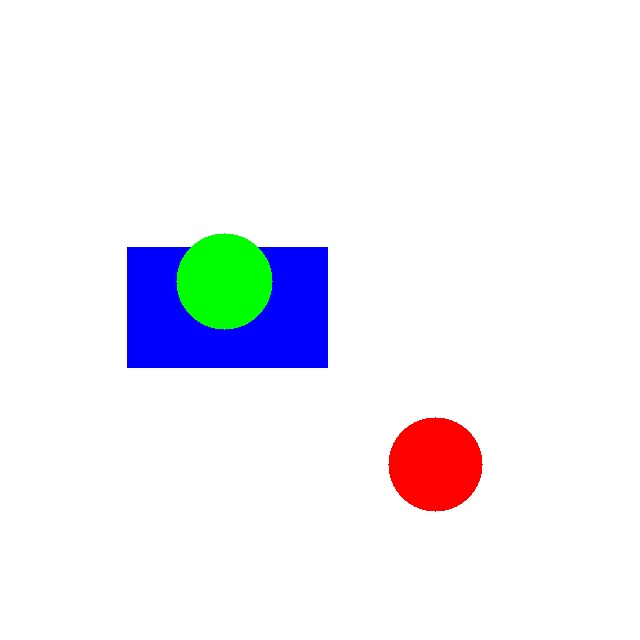cartao: (127, 247, 327, 367)
rosca_externa: (176, 233, 272, 329)
rosca_interna: (388, 417, 482, 511)
